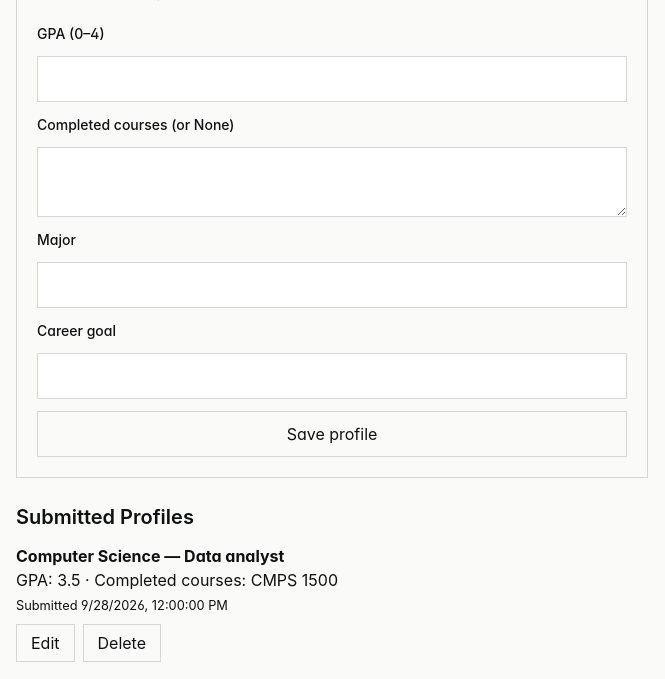
it: SubmissionsPage — the submitted list › cancelling an edit leaves the record untouched
(page scrolled)
Expected: the text "Computer Science — Data analyst" is shown, 16,546 -> 284,566
Click the button "Edit": (45, 643) 16,624 -> 74,662
(page scrolled)
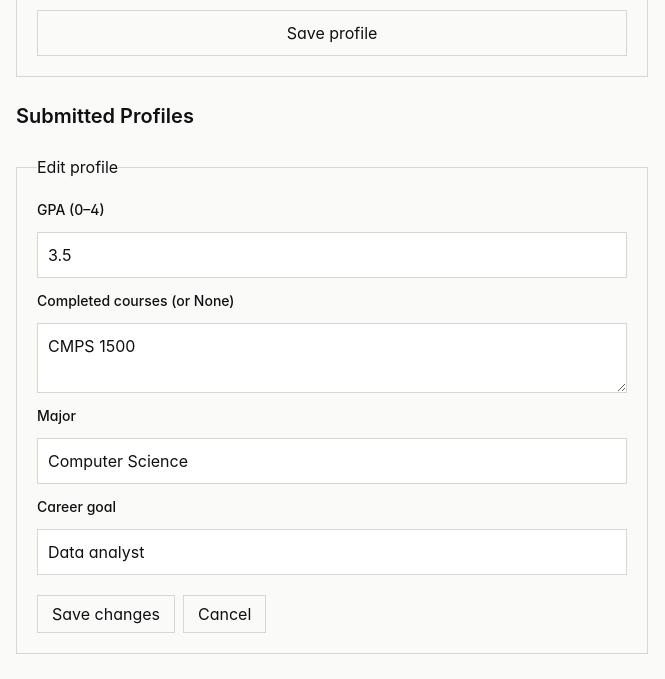
Click the button "Cancel": (225, 614) 183,595 -> 266,633
(page scrolled)
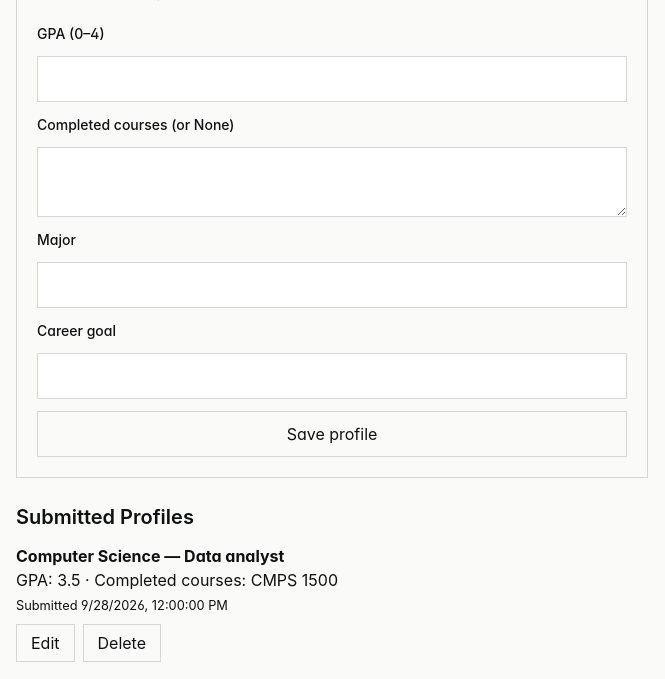
Expected: the text "Computer Science — Data analyst" is shown, 16,546 -> 284,566
